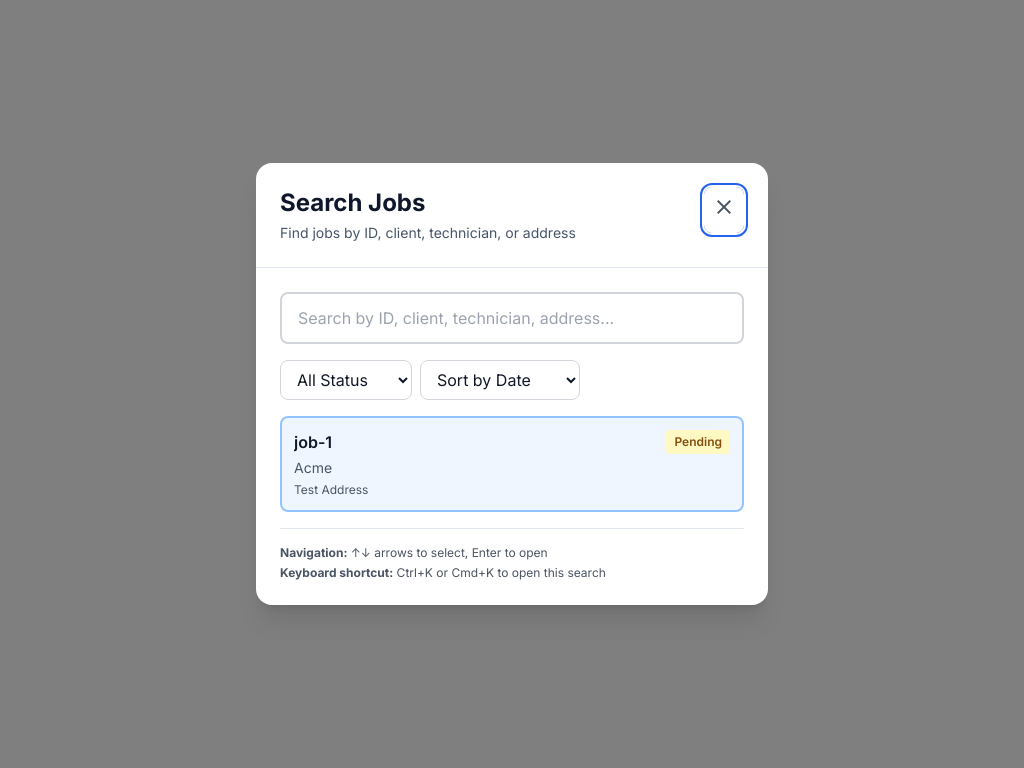
Test: QuickSearchModal › shows empty state when no results match
Type "nonexistent" into the field with placeholder "Search by ID, client, technician, address...". click: (512, 318)
box: top-left (280, 292), bottom-right (744, 344)
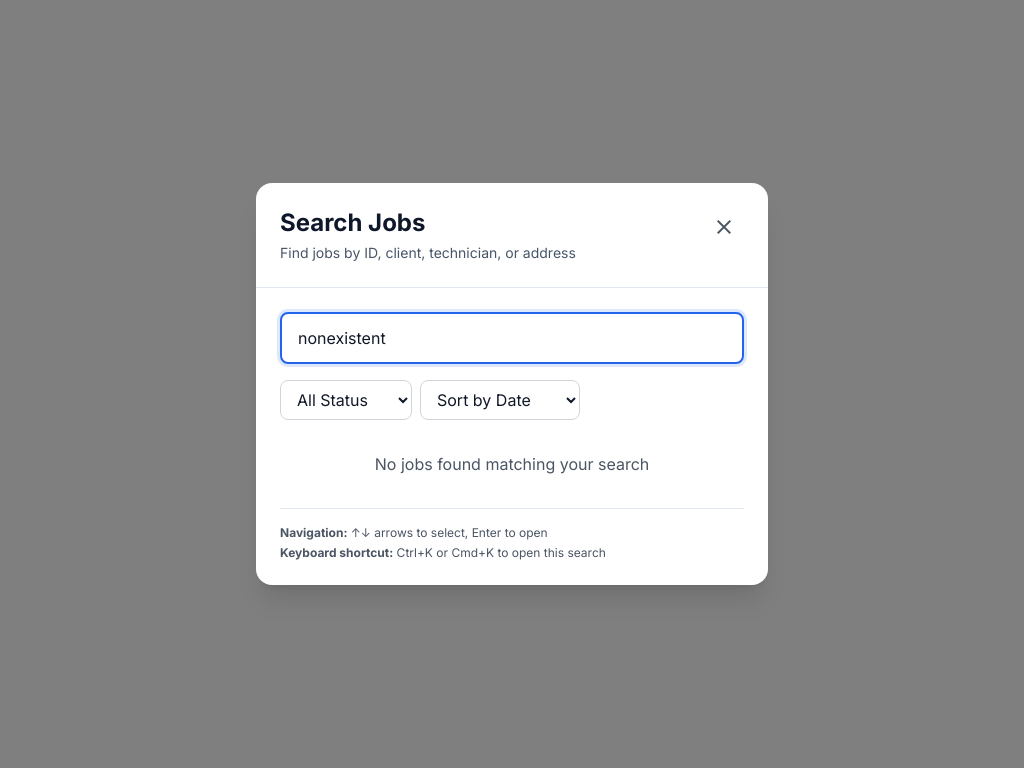
expect the text "No jobs found matching your search" is shown: met, box top-left (375, 454), bottom-right (649, 474)
